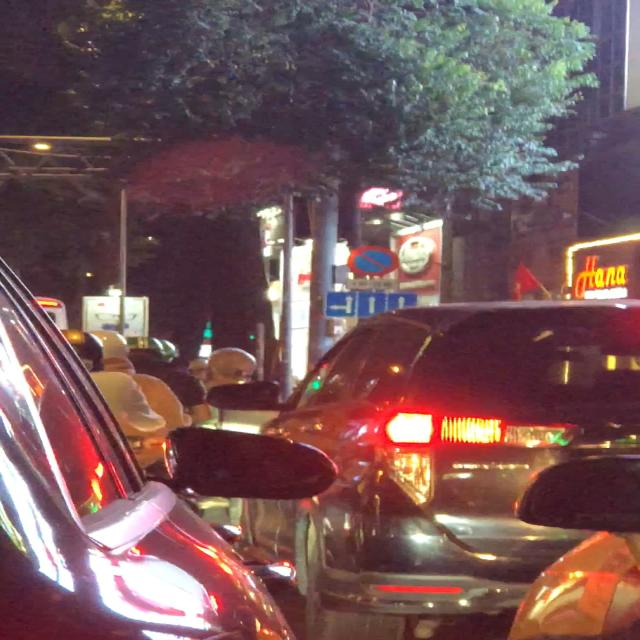Bien bao cam do xe: (346, 245, 406, 278)
